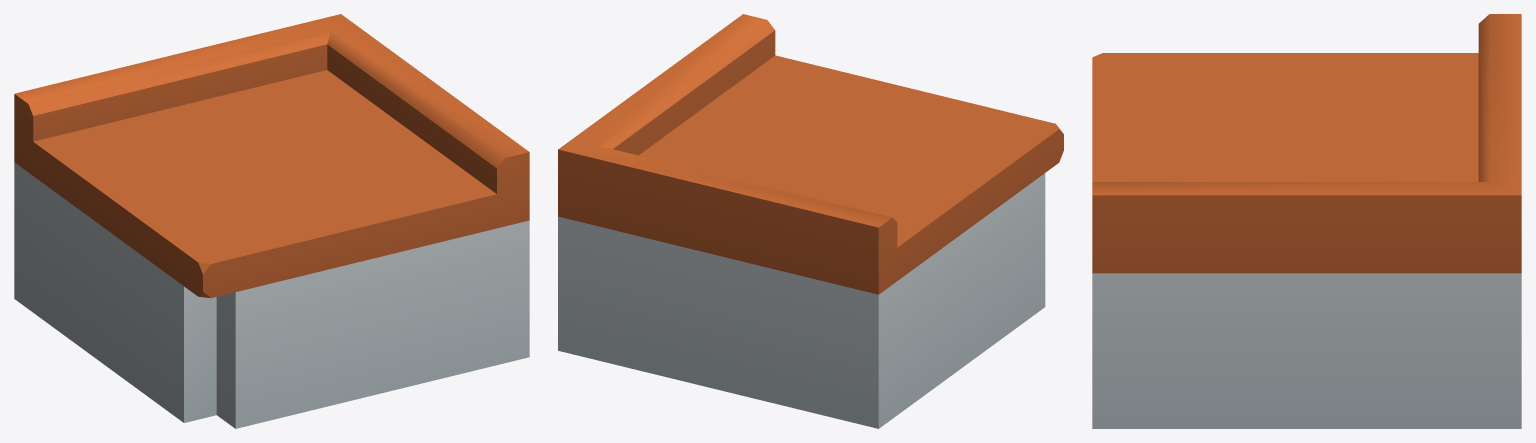
Rendered from kitchencounter_innercorner_backsplash.obj.
3 views of the same model, side by side, from view 1: azimuth 30°, elevation 25°; view 2: azimuth 150°, elevation 25°; view 3: azimuth 270°, elevation 25° (orthographic). The views are drawn at different scales.
Visible parts, largest first — view 1: kitchencounter_innercorner_backsplash_Cube.899; view 2: kitchencounter_innercorner_backsplash_Cube.899; view 3: kitchencounter_innercorner_backsplash_Cube.899.
Boxes of the visible parts, x1,y1,x2,y2 form: kitchencounter_innercorner_backsplash_Cube.899: [14, 14, 529, 428]; kitchencounter_innercorner_backsplash_Cube.899: [558, 14, 1063, 428]; kitchencounter_innercorner_backsplash_Cube.899: [1092, 14, 1521, 428].
Size of the model in its own units: 2 by 1.2 by 2.
1 material, 1 textured.
